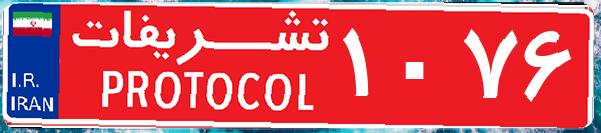0: (400, 20, 460, 115)
1: (340, 20, 400, 115)
6: (520, 20, 580, 115)
7: (460, 20, 520, 115)
تشریفات: (60, 8, 340, 125)
